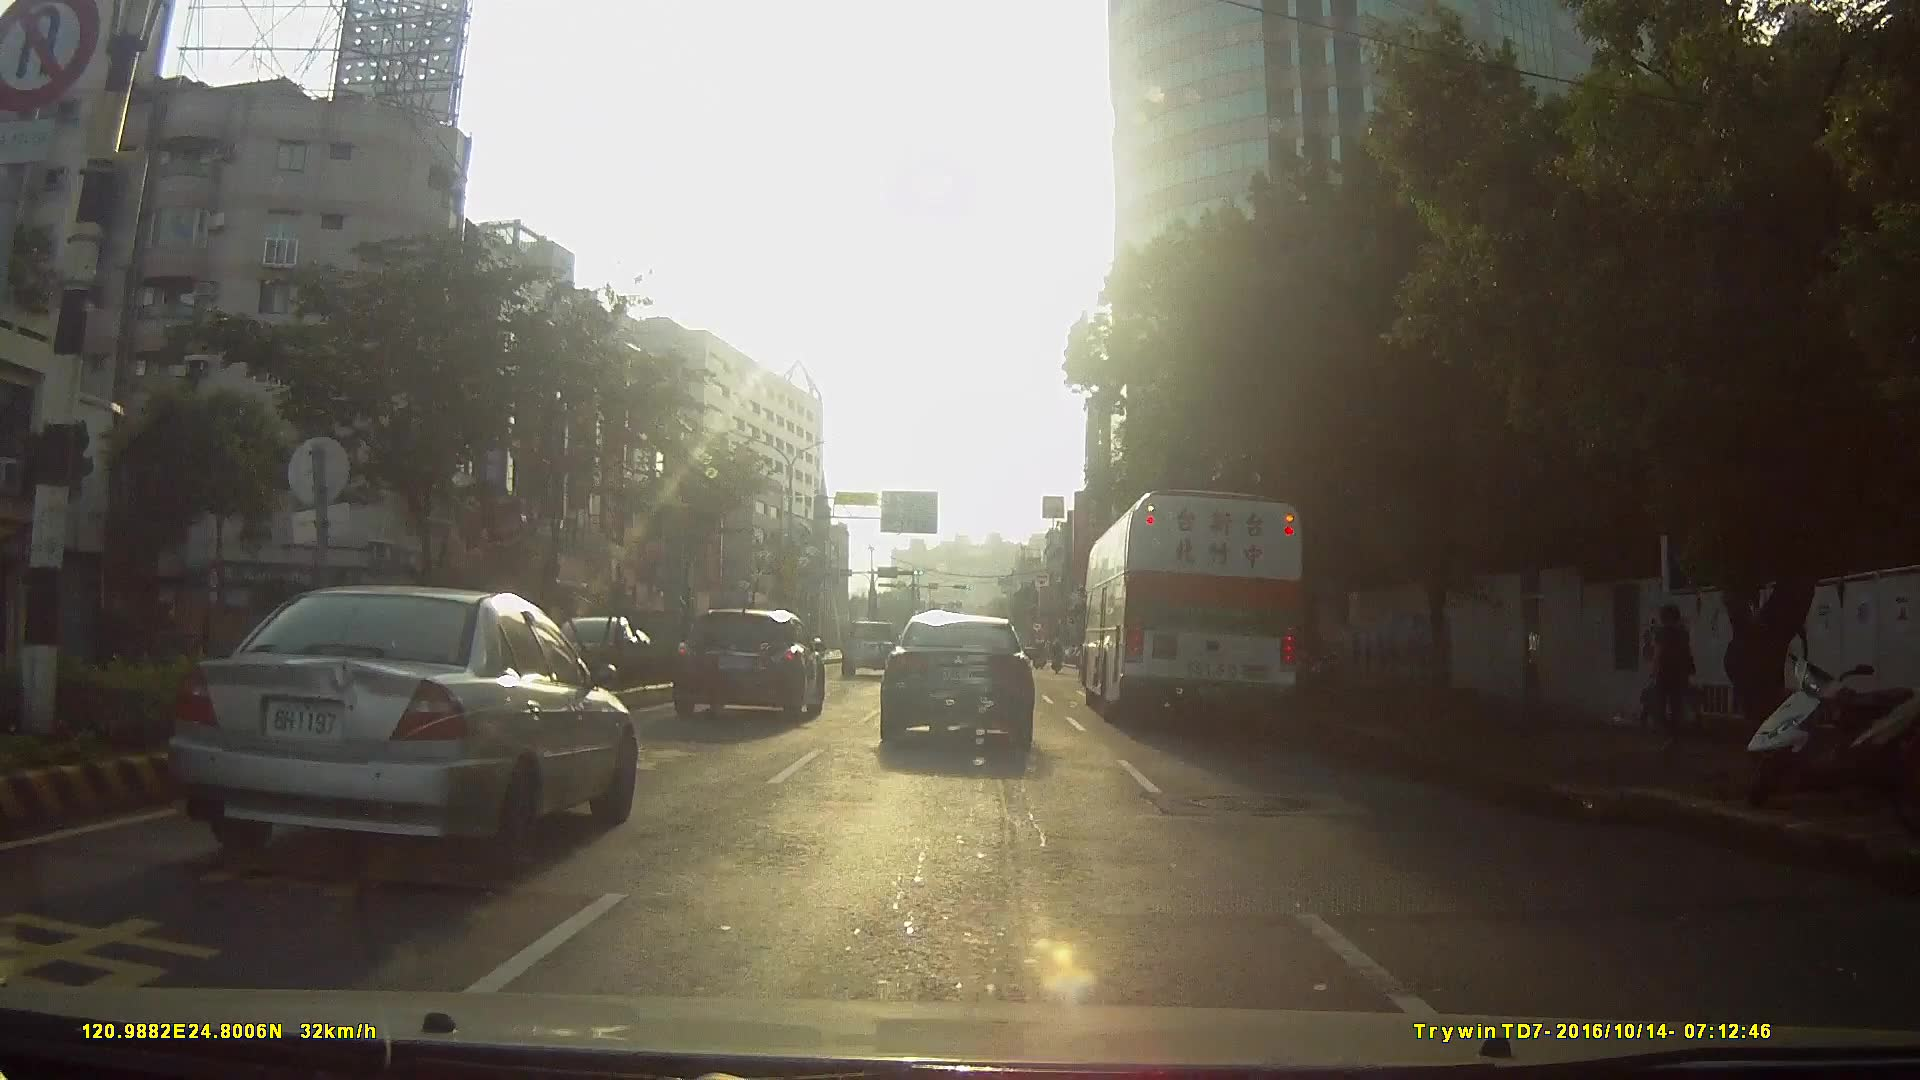pedestrian: (1648, 602, 1703, 747)
vehicle: (158, 581, 635, 882), (1083, 479, 1313, 725), (876, 609, 1037, 752), (670, 602, 825, 721), (839, 614, 901, 672)
